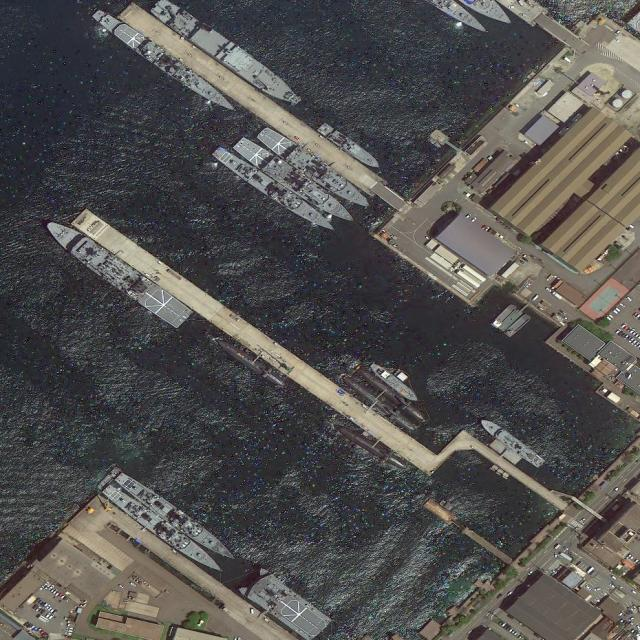Auxiliary Ships: (155, 1, 302, 111), (238, 564, 326, 640)
Destroyer: (41, 214, 195, 332), (89, 6, 241, 118), (209, 142, 343, 243), (100, 481, 232, 582), (111, 469, 242, 568), (232, 134, 359, 231), (255, 125, 374, 215)
Dock: (69, 203, 445, 480), (118, 3, 405, 211)
Other Warship: (477, 414, 546, 470), (317, 122, 383, 173), (368, 359, 422, 406)
Submarine: (209, 333, 286, 391), (344, 375, 416, 434), (356, 365, 425, 423), (332, 423, 406, 471)
